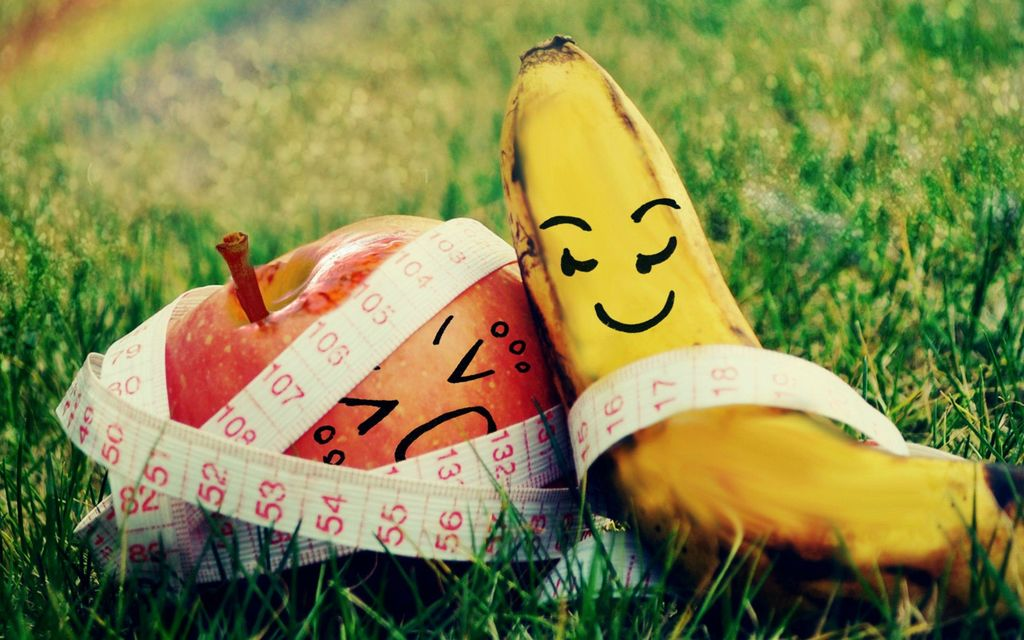Apple: (160, 211, 558, 471)
